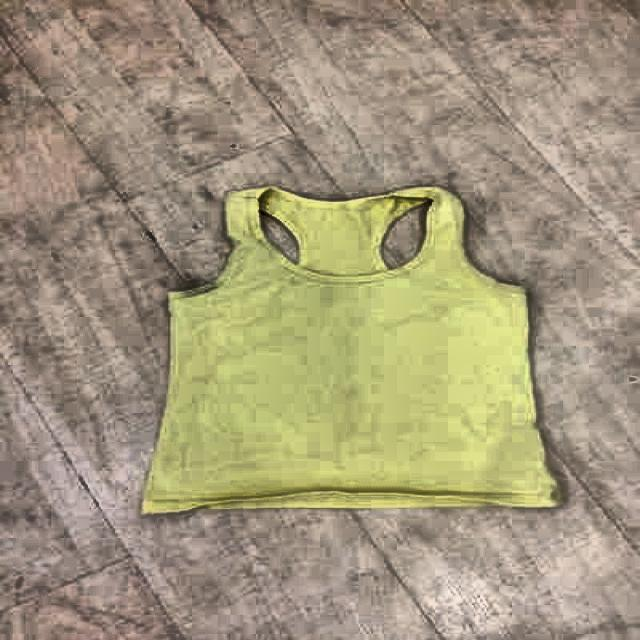clothes: (139, 181, 568, 520)
